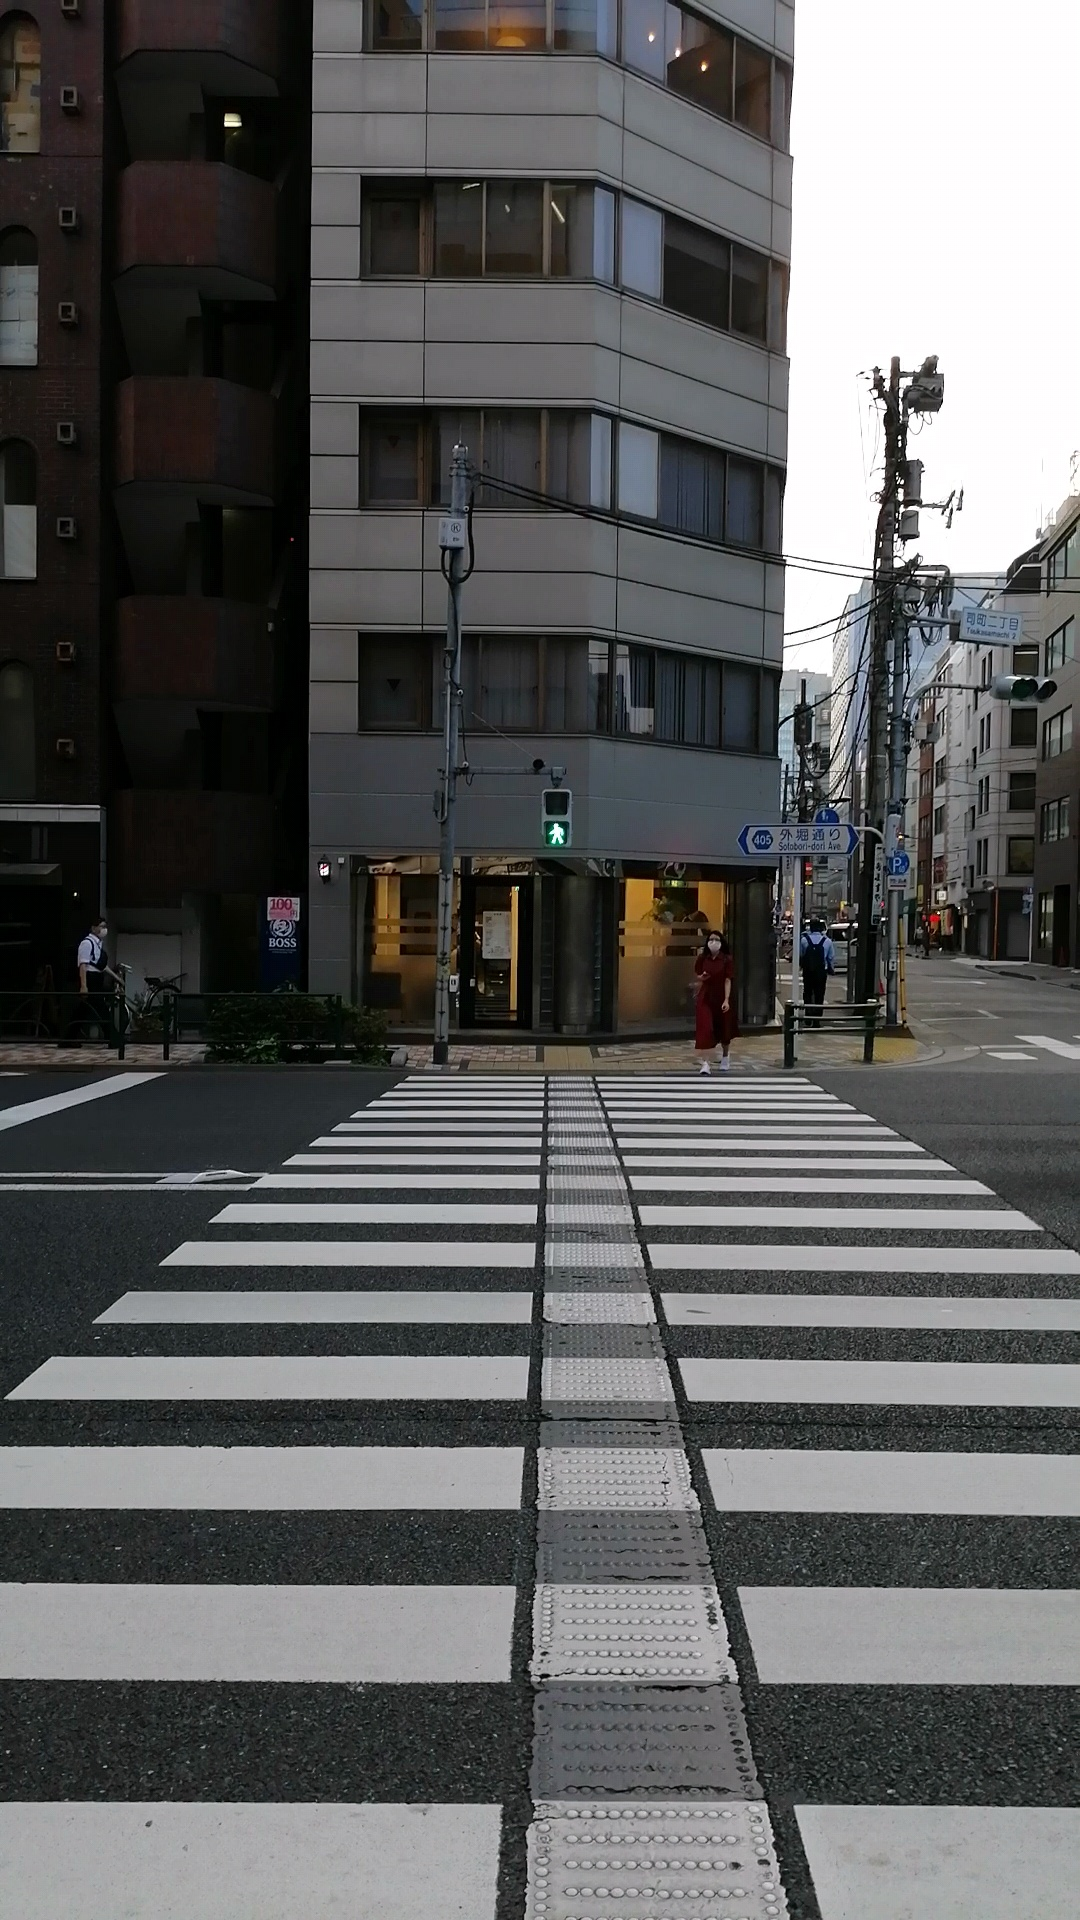green: (541, 789, 572, 851)
